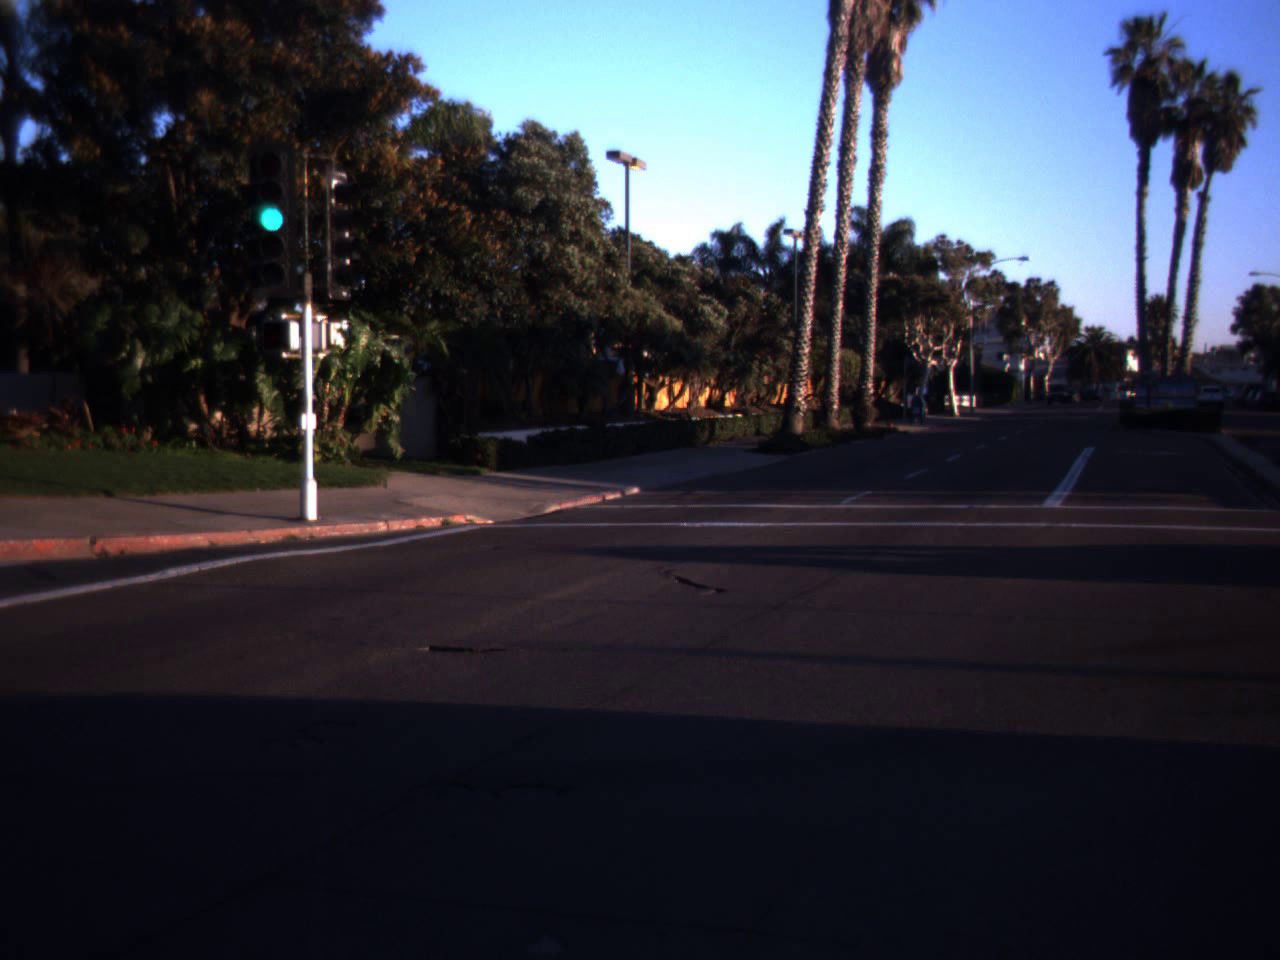go: (242, 135, 302, 240)
